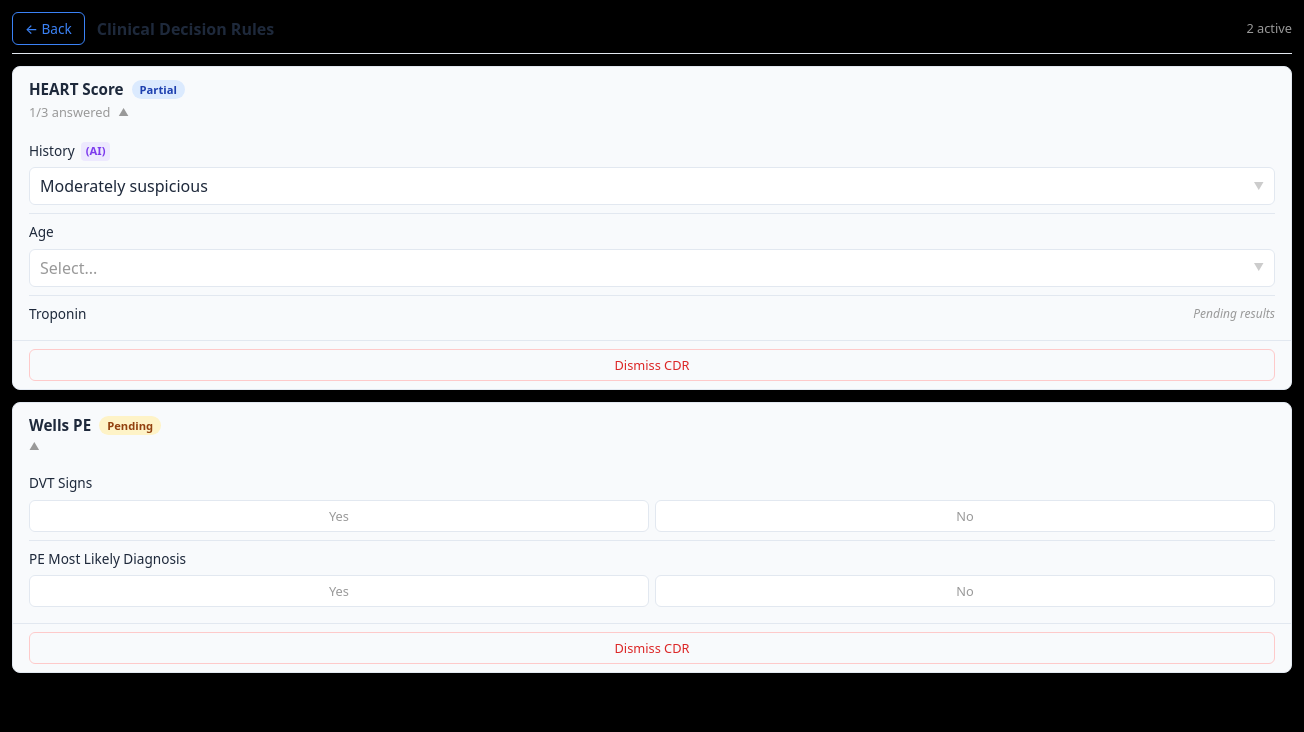
CdrDetailView › removes "(AI)" badge after user overrides an AI-populated value
The image size is (1304, 732).
// Open History dropdown (it shows "Moderately suspicious" as answered)
Click the text "Moderately suspicious": [124, 186] box [40,175,208,197]
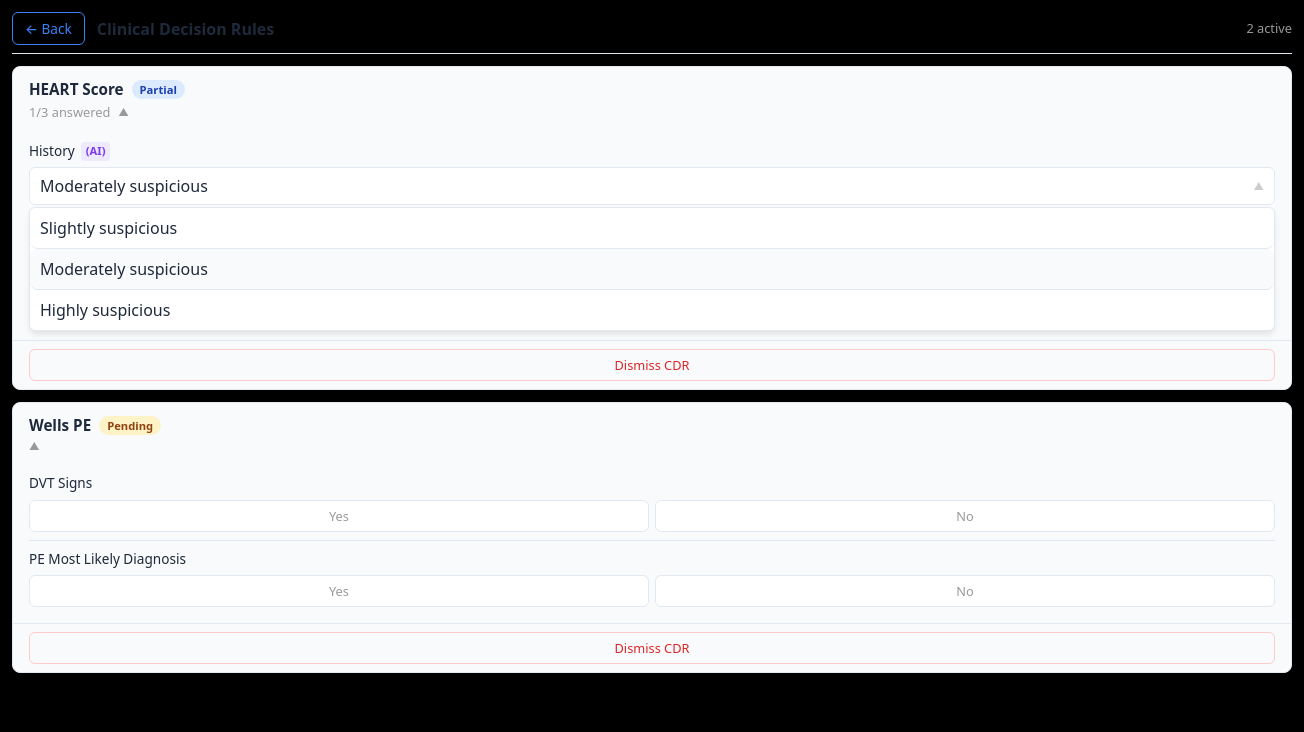
// Click "Highly suspicious" to override AI value
Click the option "Highly suspicious": [105, 310] box [30,290,1274,330]
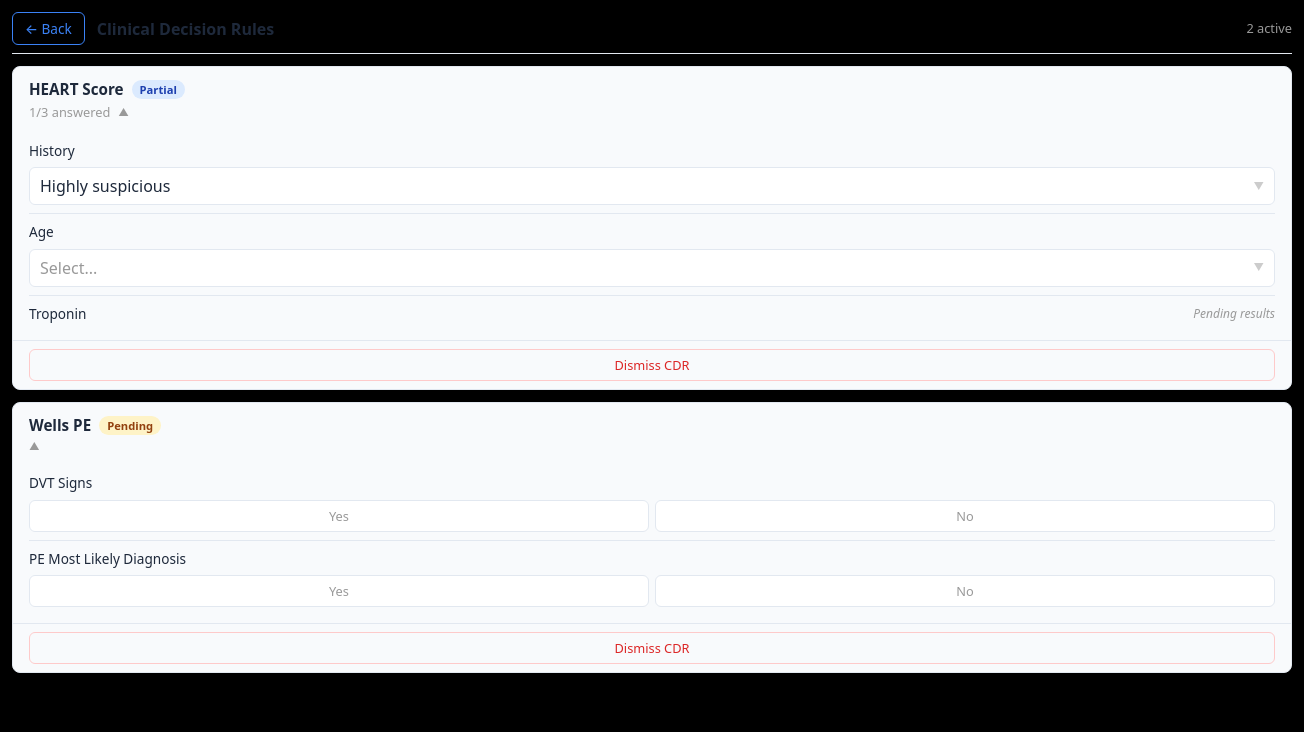
Result: the text "(AI)" is not shown
